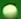white: (0, 0, 21, 19)
